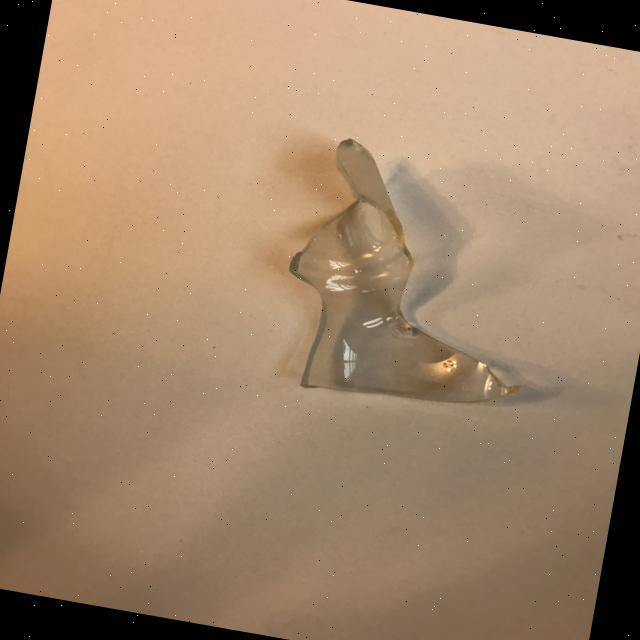glass: (194, 106, 590, 447)
